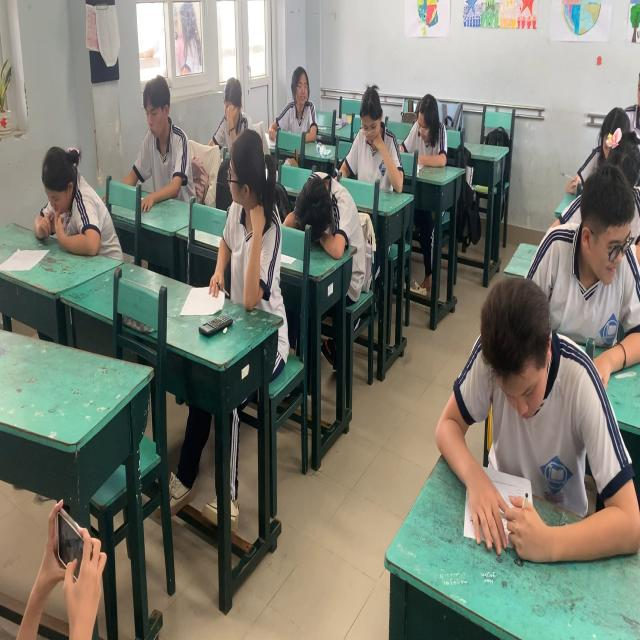cheating: (191, 108, 275, 354), (520, 179, 640, 341), (269, 49, 325, 150)
not_cheating: (434, 283, 640, 586), (24, 115, 110, 297), (282, 122, 367, 288), (554, 120, 640, 284), (125, 62, 207, 221), (563, 56, 640, 200), (338, 69, 403, 225), (398, 86, 460, 195), (202, 65, 251, 161)
